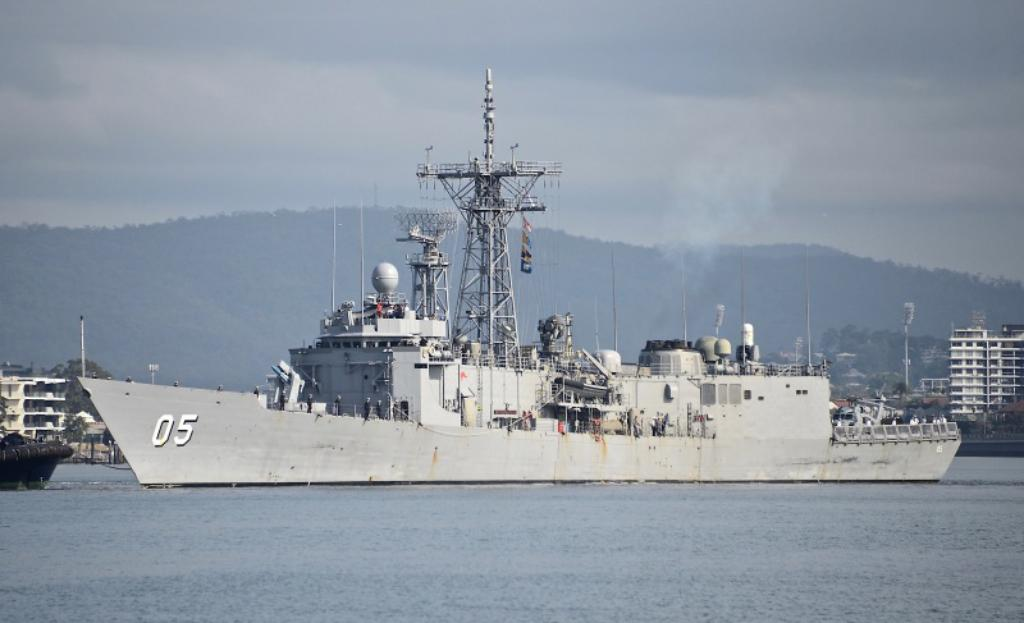Warship: (66, 74, 974, 501)
